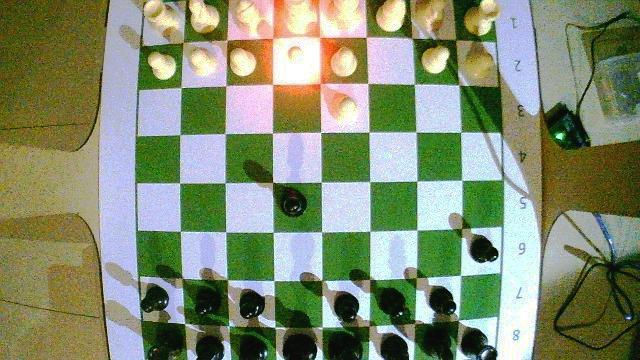piece: (284, 0, 359, 33), (143, 0, 178, 38), (464, 0, 499, 33), (458, 329, 496, 359), (281, 329, 318, 359), (327, 292, 359, 326), (188, 0, 219, 33), (375, 0, 405, 31), (415, 0, 443, 33), (235, 0, 268, 28), (378, 287, 408, 317), (324, 90, 356, 118), (149, 332, 179, 359), (330, 47, 357, 76), (195, 332, 224, 359), (421, 46, 449, 73), (324, 338, 360, 359), (186, 46, 215, 72), (280, 187, 306, 216), (147, 52, 174, 79), (141, 286, 168, 313), (429, 287, 456, 314), (238, 290, 265, 317), (470, 236, 498, 262), (380, 333, 408, 359), (465, 47, 494, 72), (230, 48, 255, 76), (426, 332, 450, 359), (239, 337, 268, 359), (196, 287, 219, 314), (287, 47, 299, 59)
